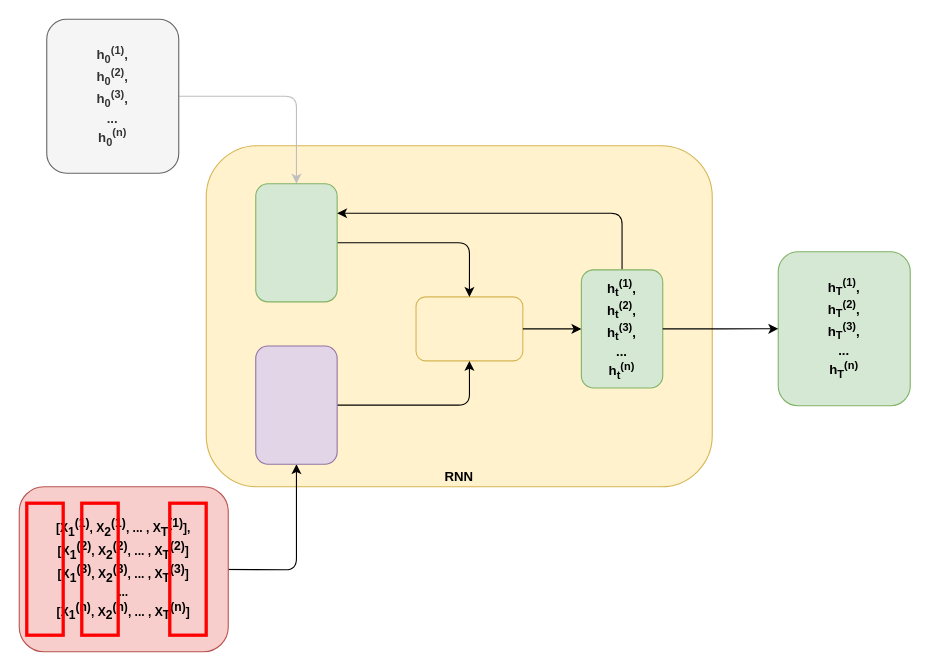
Image size: 930x671. Some labels were removed from this diagram. Here are the shapes that lost their labels. From the top down, the centre of each, then its label:
[296,242]: h t-1 (1) , h t-1 (2) , h t-1 (3) , ... h t-1 (n)
[469,328]: AnyRNNCell
[296,404]: X t (1) , X t (2) , X t (3) , ... X t (n)
